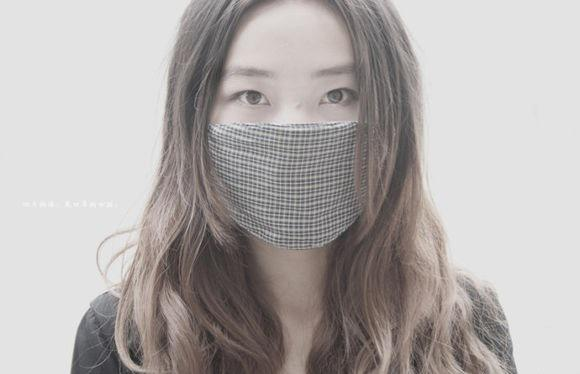OK: (212, 61, 382, 231)
